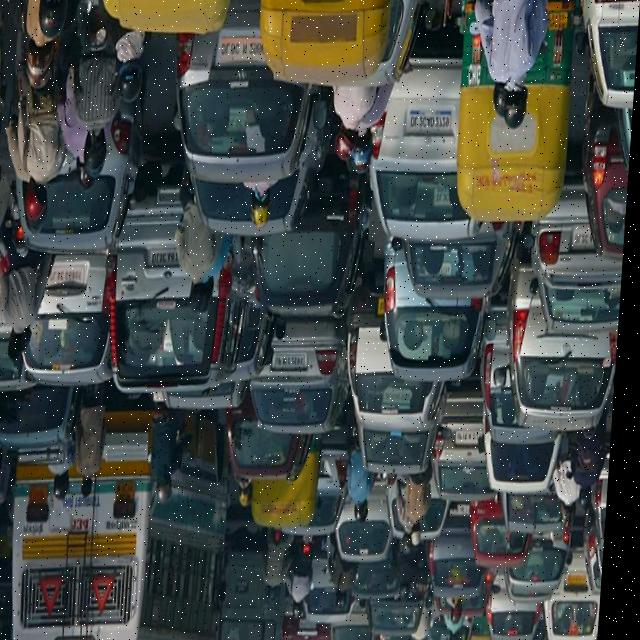plate: (218, 37, 268, 63), (404, 108, 457, 132)
